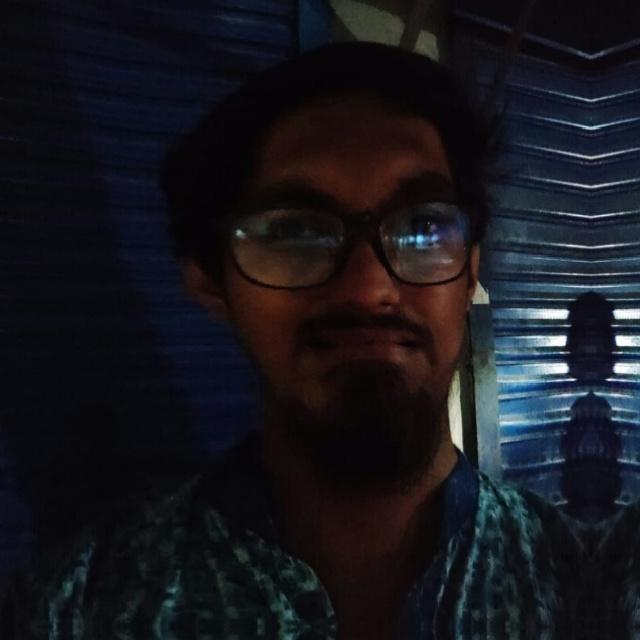Disgust: (175, 116, 531, 492)
